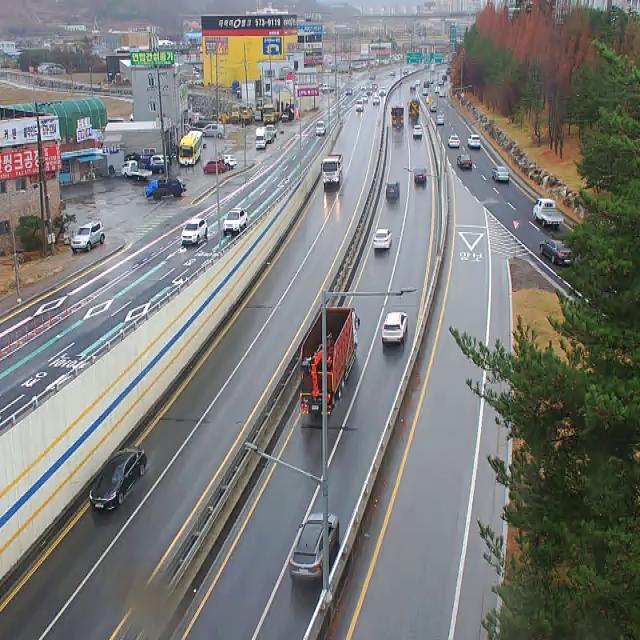Bus: (179, 130, 203, 166), (391, 106, 404, 130)
Car: (90, 448, 148, 513), (288, 512, 339, 581), (71, 220, 105, 254), (539, 238, 574, 266), (382, 312, 408, 344), (182, 219, 208, 245), (224, 208, 247, 234), (374, 229, 392, 251), (198, 124, 224, 137), (386, 182, 400, 202), (203, 161, 224, 174), (492, 167, 509, 182), (223, 155, 237, 170), (457, 155, 472, 169), (150, 155, 170, 165), (414, 169, 427, 184), (281, 109, 294, 122), (468, 135, 481, 148), (448, 134, 460, 148), (266, 125, 277, 138), (435, 113, 444, 126), (413, 126, 422, 138), (266, 133, 274, 144), (356, 100, 363, 112), (373, 96, 380, 105), (379, 87, 386, 96), (362, 95, 368, 104), (430, 105, 437, 112)
Truck: (300, 306, 360, 416), (534, 198, 564, 229), (151, 177, 187, 200), (321, 154, 343, 186), (122, 161, 152, 181), (138, 155, 164, 173), (262, 105, 278, 123), (407, 98, 420, 120), (256, 127, 266, 150), (315, 121, 326, 135)
